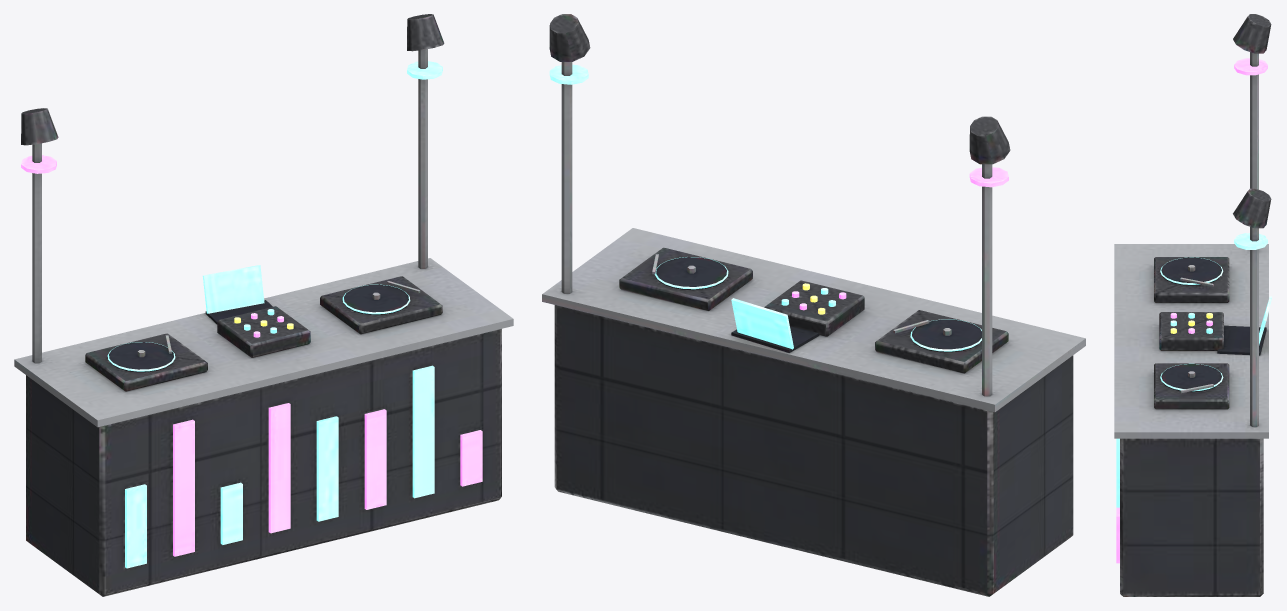
File: cabine_dj.glb
The picture shows the model from 3 angles, left to right: view 1: azimuth 30°, elevation 25°; view 2: azimuth 150°, elevation 25°; view 3: azimuth 270°, elevation 25°; orthographic projection. The views are drawn at different scales.
Parts seen in each view (by area): view 1: cabine_dj; view 2: cabine_dj; view 3: cabine_dj.
Part boxes in pixels (bbox=[...]): cabine_dj: bbox=[14, 14, 513, 596]; cabine_dj: bbox=[542, 14, 1085, 596]; cabine_dj: bbox=[1114, 14, 1272, 596].
Size of the model in its own units: 2.49 by 2.48 by 0.8797.
1 material, 1 textured.
